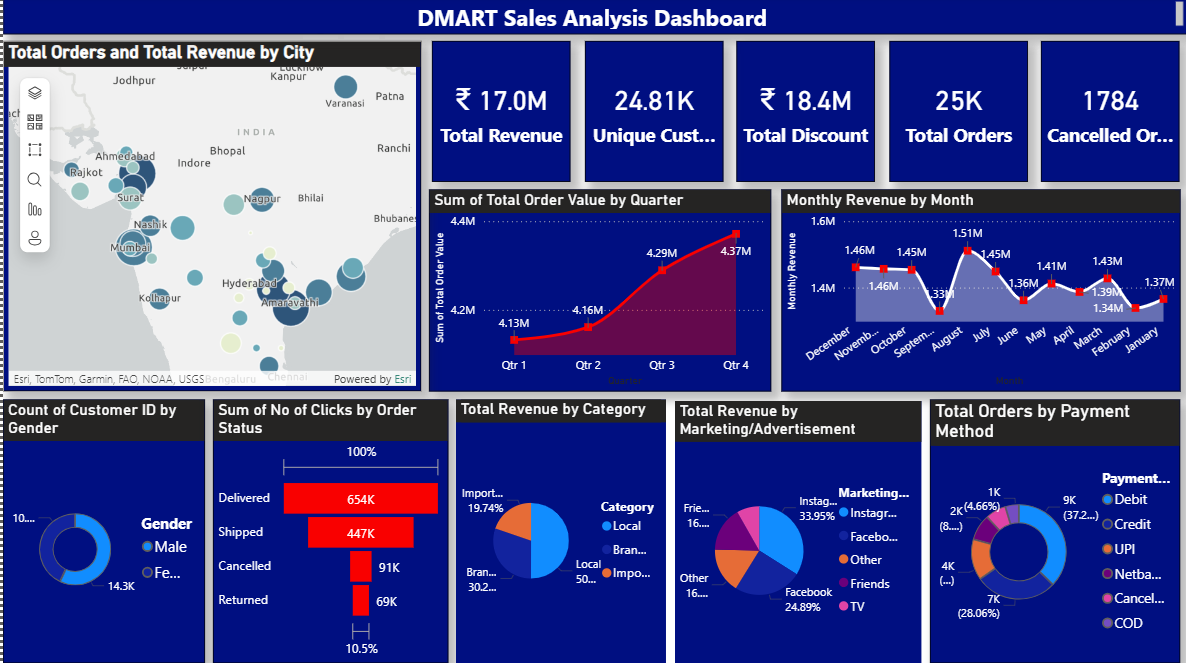

This screenshot's page, from the dashboard's own definition file:
{"tool":"powerbi","page":{"name":"Duplicate of Page 1","canvas":[1280,720],"ordinal":1},"visuals":[{"type":"lineChart","fields":{"Category":["Dmart+Dataset_Tableau.Order Date.Variation.Date Hierarchy.Quarter"],"Y":["Sum(Dmart+Dataset_Tableau.Total Order Value)"]},"box":[460.3,209,369.5,217.7],"z":0},{"type":"donutChart","fields":{"Category":["Dmart+Dataset_Tableau.Gender"],"Y":["CountNonNull(Dmart+Dataset_Tableau.Customer ID)"]},"box":[0,435.4,217.7,284.9],"z":1000},{"type":"esriVisual","fields":{"Location":["Dmart+Dataset_Tableau.City"],"Color":["Dmart+Dataset_Tableau.Total Revenue"],"Size":["Dmart+Dataset_Tableau.Total Orders"]},"box":[0,48.5,451.6,378.2],"z":3000},{"type":"funnel","fields":{"Y":["Sum(Dmart+Dataset_Tableau.No of Clicks)"],"Category":["Dmart+Dataset_Tableau.Order Status"]},"box":[226.4,435.4,253.8,284.9],"z":4000},{"type":"donutChart","fields":{"Category":["Dmart+Dataset_Tableau.Payment Method"],"Y":["Dmart+Dataset_Tableau.Total Orders"]},"box":[1000.1,435.4,269.9,284.9],"z":5000},{"type":"textbox","box":[0,0,1280,41.1],"z":6000},{"type":"pieChart","fields":{"Y":["Dmart+Dataset_Tableau.Total Revenue"],"Category":["Dmart+Dataset_Tableau.Category"]},"box":[488.9,435.4,226.4,284.9],"z":7000},{"type":"card","fields":{"Values":["Dmart+Dataset_Tableau.Total Revenue"]},"box":[462.8,48.5,149.3,151.8],"z":8000},{"type":"card","fields":{"Values":["Dmart+Dataset_Tableau.Total Discount"]},"box":[791.2,48.5,149.3,151.8],"z":9000},{"type":"card","fields":{"Values":["Dmart+Dataset_Tableau.Total Orders"]},"box":[956.6,48.5,149.3,151.8],"z":11000},{"type":"card","fields":{"Values":["CountNonNull(Dmart+Dataset_Tableau.Cancellation Date)"]},"box":[1120.8,48.5,149.3,151.8],"z":12000},{"type":"lineChart","fields":{"Category":["Dmart+Dataset_Tableau.Order Date.Variation.Date Hierarchy.Month"],"Y":["Calendar.Monthly Revenue"]},"box":[839.7,209,430.4,217.7],"z":13000},{"type":"card","fields":{"Values":["Count(Dmart+Dataset_Tableau.Customer ID)"]},"box":[628.2,48.5,149.3,151.8],"z":14000},{"type":"pieChart","fields":{"Y":["Dmart+Dataset_Tableau.Total Revenue"],"Category":["Dmart+Dataset_Tableau.Marketing/Advertisement"]},"box":[725.2,436.6,266.2,283.6],"z":14001}]}

Visuals, with their boxes in screenshot pixels (x1, y1, x2, y2), scaled from the page's 1280x720 canvas onto the 1186x663 screenshot:
lineChart - Dmart+Dataset_Tableau.Order Date.Variation.Date Hierarchy.Quarter x Sum(Dmart+Dataset_Tableau.Total Order Value): l=426, t=192, r=769, b=393
donutChart - Dmart+Dataset_Tableau.Gender x CountNonNull(Dmart+Dataset_Tableau.Customer ID): l=0, t=401, r=202, b=662
esriVisual - Dmart+Dataset_Tableau.City x Dmart+Dataset_Tableau.Total Revenue: l=0, t=45, r=418, b=393
funnel - Sum(Dmart+Dataset_Tableau.No of Clicks) x Dmart+Dataset_Tableau.Order Status: l=210, t=401, r=445, b=662
donutChart - Dmart+Dataset_Tableau.Payment Method x Dmart+Dataset_Tableau.Total Orders: l=927, t=401, r=1177, b=662
textbox: l=0, t=0, r=1185, b=38
pieChart - Dmart+Dataset_Tableau.Total Revenue x Dmart+Dataset_Tableau.Category: l=453, t=401, r=663, b=662
card - Dmart+Dataset_Tableau.Total Revenue: l=429, t=45, r=567, b=184
card - Dmart+Dataset_Tableau.Total Discount: l=733, t=45, r=871, b=184
card - Dmart+Dataset_Tableau.Total Orders: l=886, t=45, r=1025, b=184
card - CountNonNull(Dmart+Dataset_Tableau.Cancellation Date): l=1038, t=45, r=1177, b=184
lineChart - Dmart+Dataset_Tableau.Order Date.Variation.Date Hierarchy.Month x Calendar.Monthly Revenue: l=778, t=192, r=1177, b=393
card - Count(Dmart+Dataset_Tableau.Customer ID): l=582, t=45, r=720, b=184
pieChart - Dmart+Dataset_Tableau.Total Revenue x Dmart+Dataset_Tableau.Marketing/Advertisement: l=672, t=402, r=919, b=662
